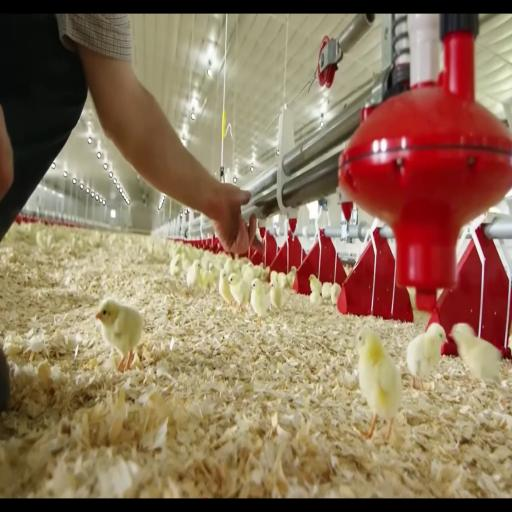chick: (356, 329, 401, 441), (96, 299, 143, 371), (451, 323, 501, 382), (407, 324, 446, 390), (251, 279, 269, 325), (228, 274, 250, 311), (219, 269, 233, 303), (269, 282, 284, 310), (186, 260, 200, 288), (201, 264, 214, 290), (242, 265, 257, 286), (309, 274, 322, 295), (170, 255, 182, 277), (331, 283, 341, 305), (287, 266, 296, 288), (224, 258, 235, 276), (321, 283, 332, 300), (310, 291, 322, 305), (260, 267, 269, 282), (278, 273, 287, 288), (254, 264, 263, 278), (270, 270, 278, 283)
